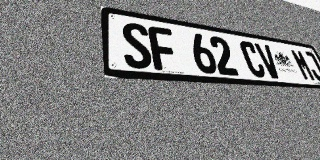2: (208, 35, 239, 76)
6: (188, 32, 219, 74)
C: (238, 40, 268, 78)
F: (147, 25, 180, 72)
J: (302, 51, 320, 82)
M: (290, 49, 317, 81)
S: (121, 21, 154, 70)
V: (254, 43, 283, 79)
